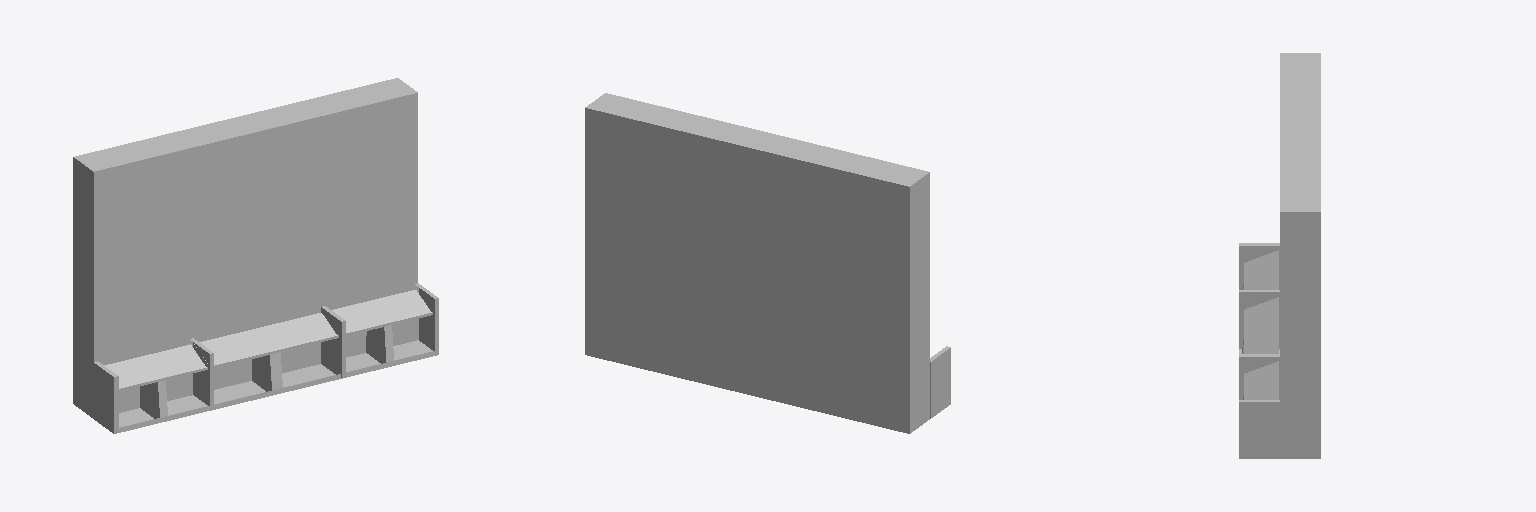
Rendered from tvstand.obj.
The picture shows the model from 3 angles: view 1: azimuth 30°, elevation 25°; view 2: azimuth 150°, elevation 25°; view 3: azimuth 270°, elevation 25°; orthographic projection.
Visible parts, largest first — view 1: Cube.006_Cube.008; view 2: Cube.006_Cube.008; view 3: Cube.006_Cube.008.
Boxes of the visible parts, box(x1,y1,x2,y2) form: Cube.006_Cube.008: box(73, 78, 438, 433); Cube.006_Cube.008: box(585, 93, 950, 433); Cube.006_Cube.008: box(1239, 53, 1320, 458).
Bounding box in the file's own units: 1841 × 1339 × 402.